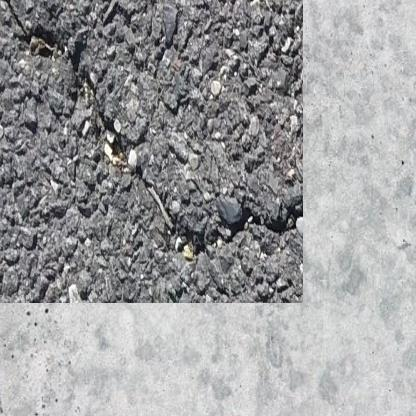Cracks: (0, 0, 280, 244)
